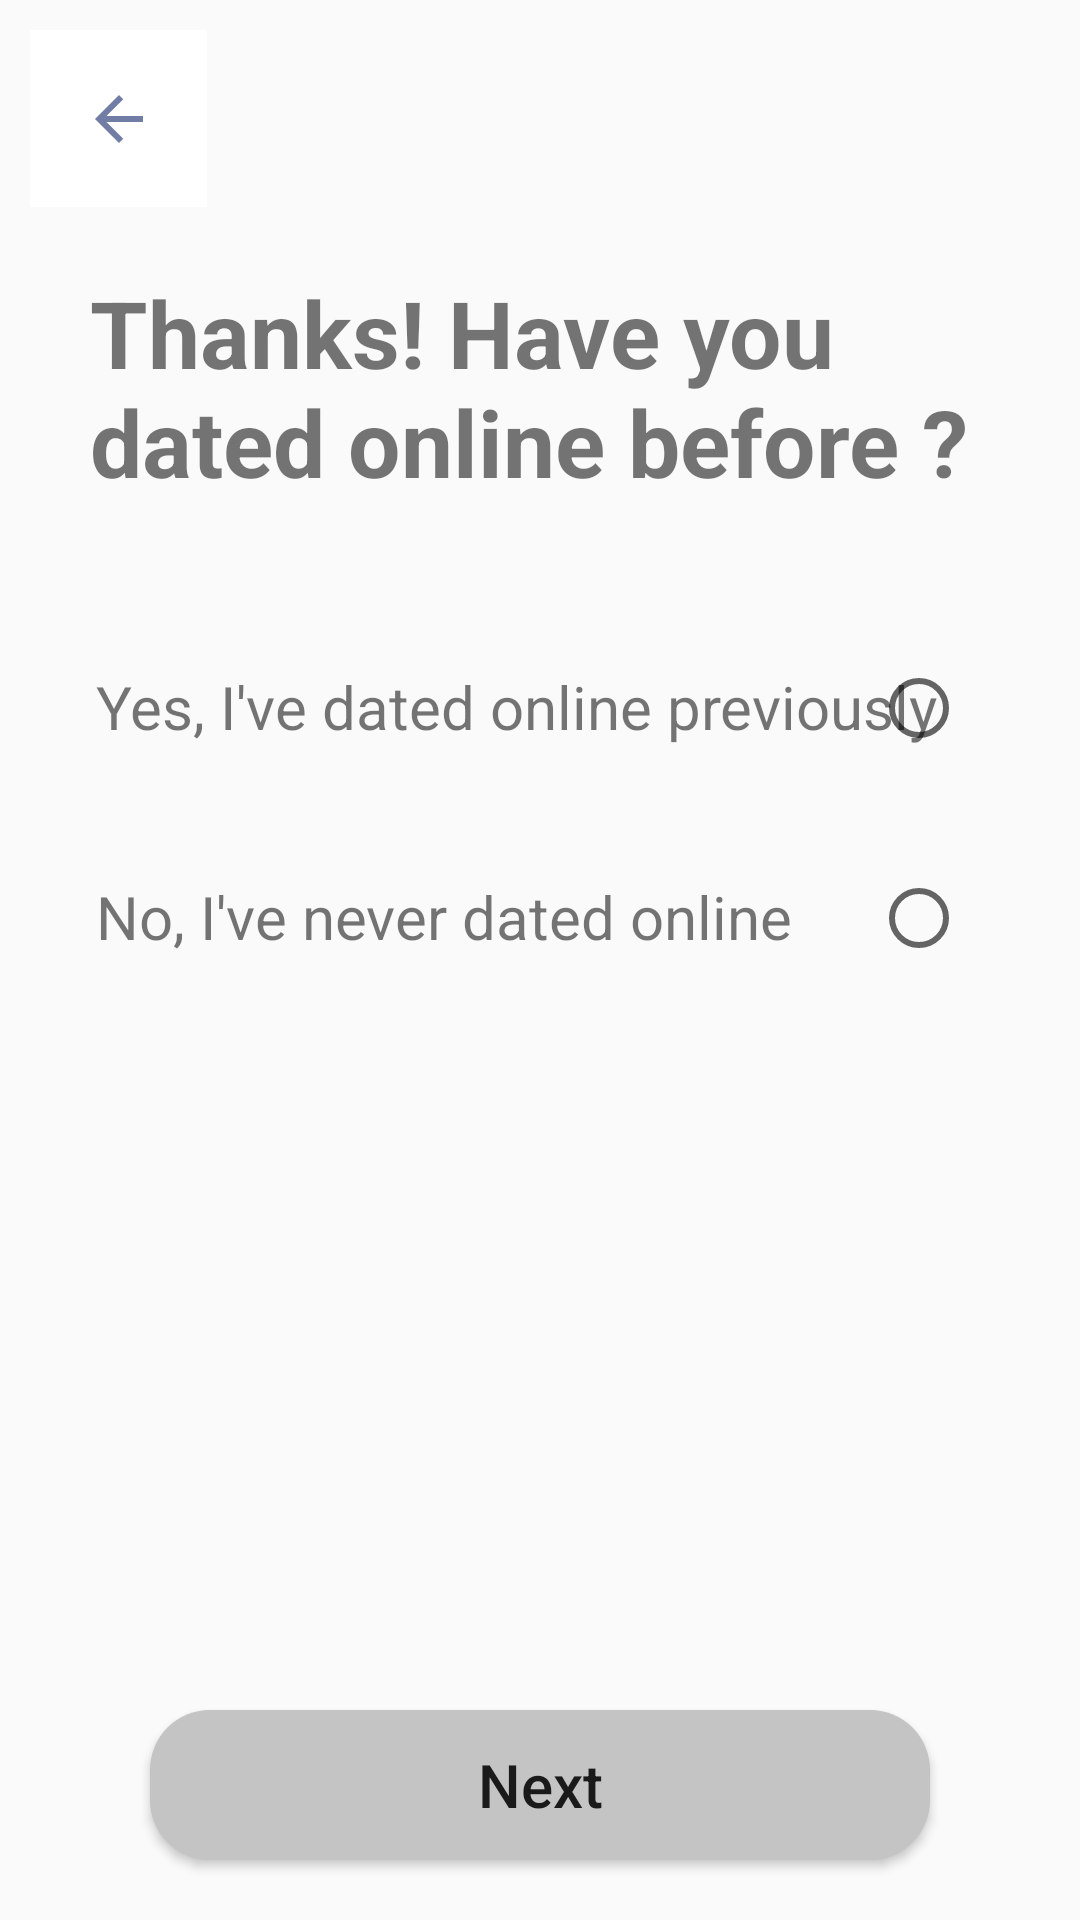

Screen size 1080w x 1920h. Icon name, then its center in pixels as [x,y]:
arrow back: [119,119]
